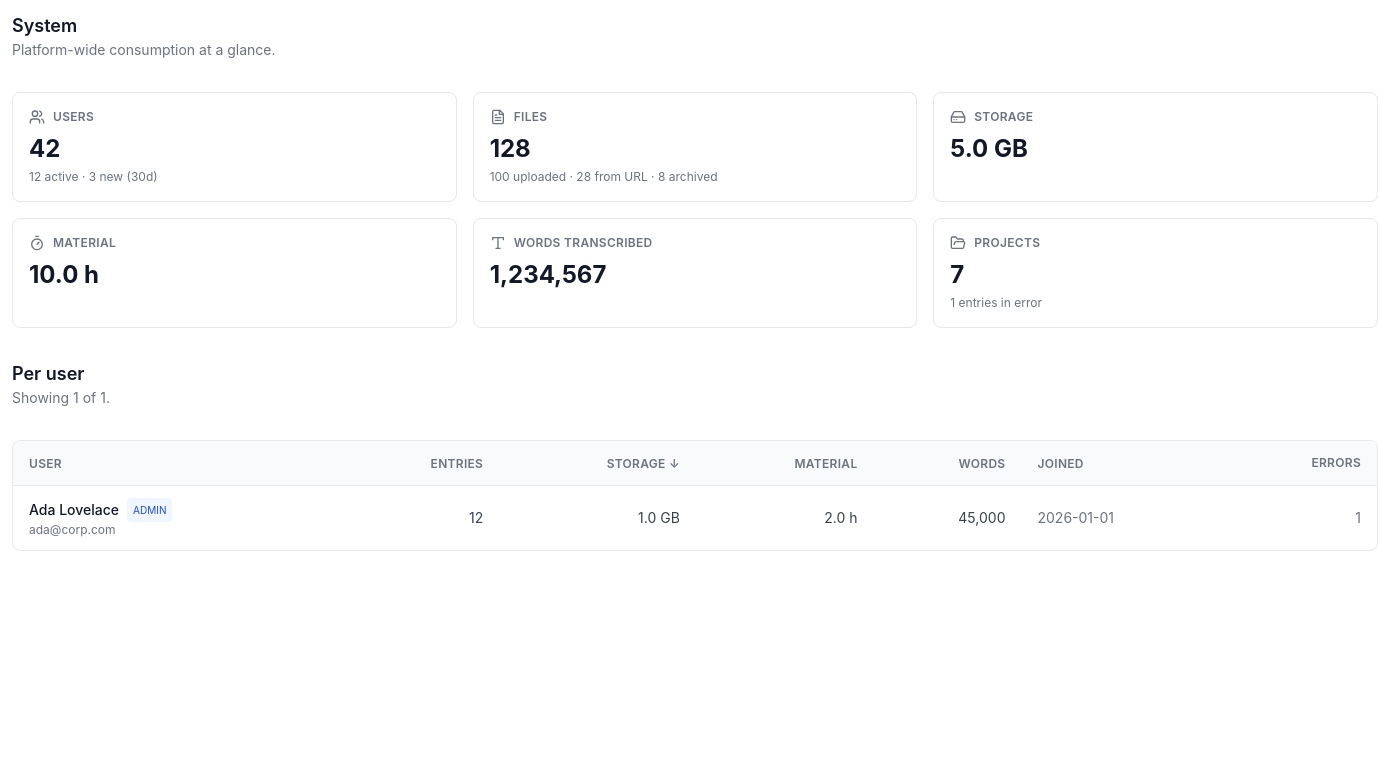
it: AdminDashboard › discards a stale response that lands after a newer one
Expected: the text "42" is shown, [29,134,60,163]
Click the button "Entries" at (457, 464), box [431,456,483,472]
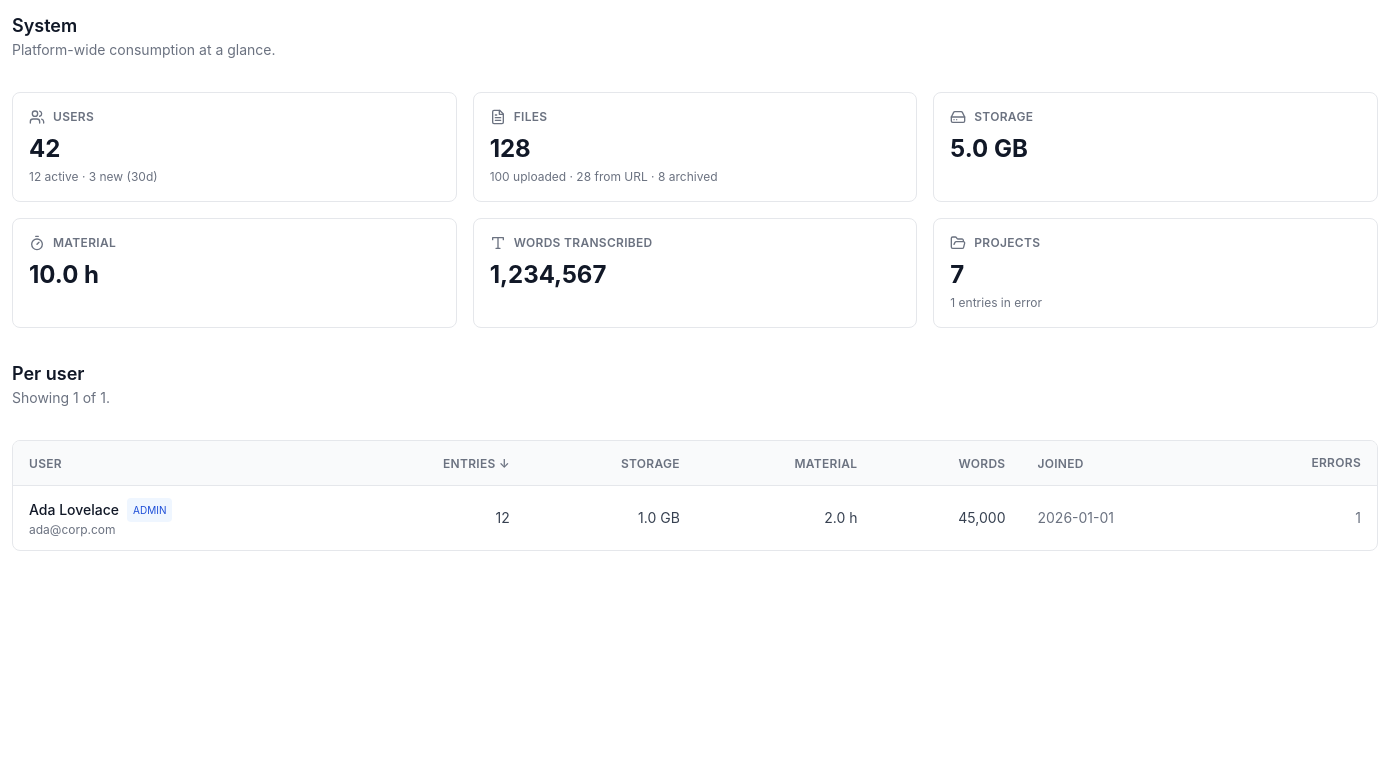
Click the button "Words" at (982, 464), box [958,456,1006,472]
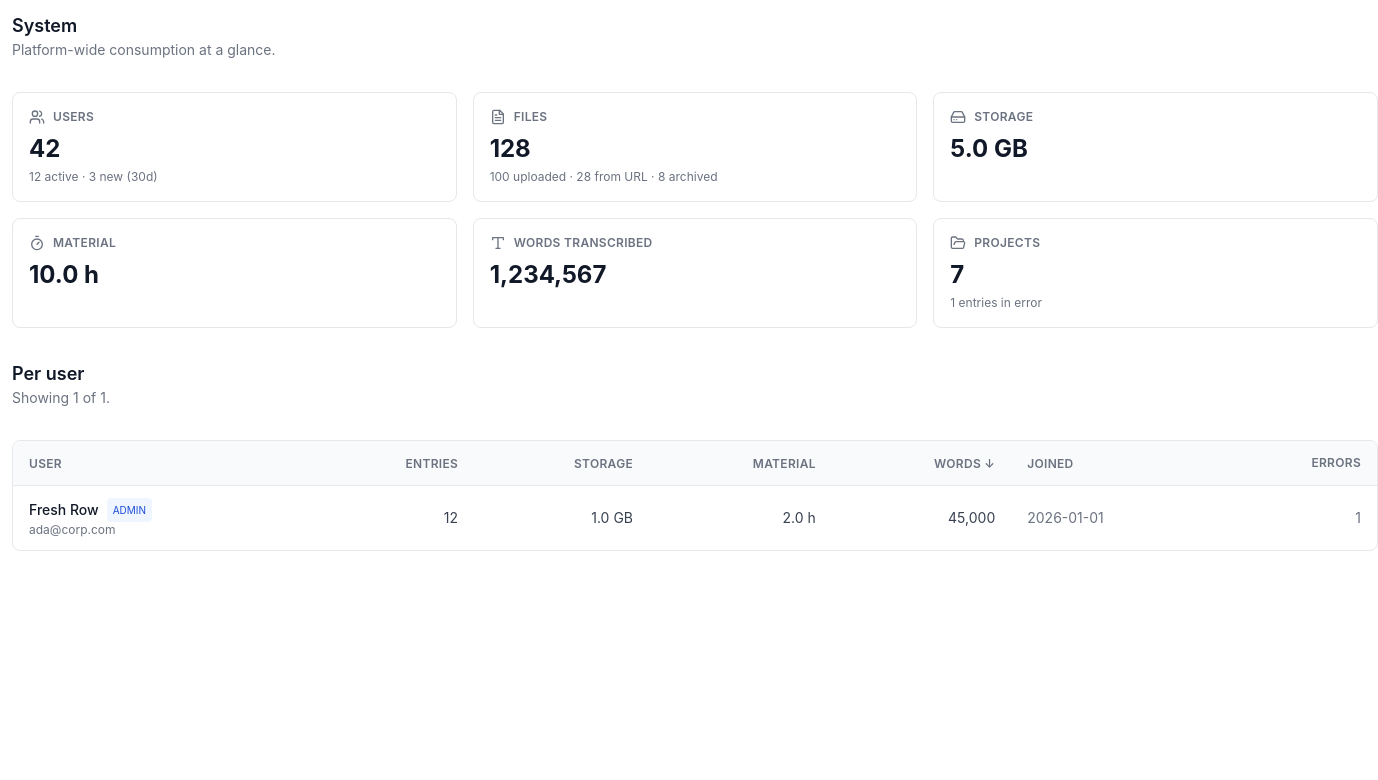
Expected: the text "Fresh Row" is shown, [29,500,99,520]
